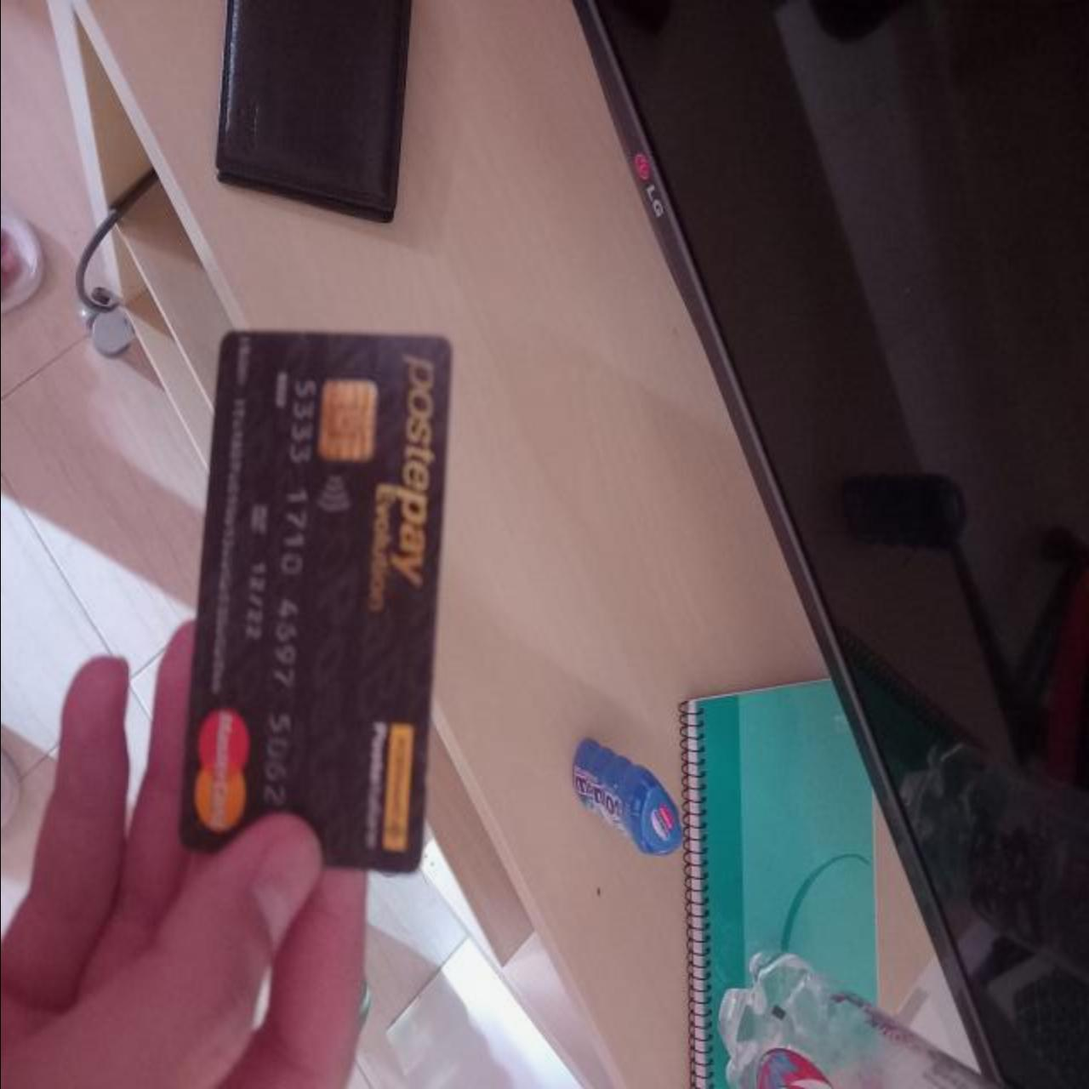credit_card: (177, 323, 456, 881)
